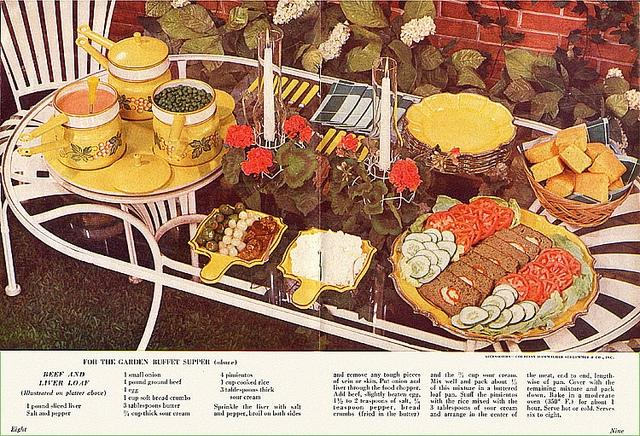cucumber: (459, 306, 489, 326), (489, 308, 514, 330), (407, 256, 431, 278), (402, 238, 426, 260), (418, 264, 442, 284), (481, 294, 506, 313), (506, 304, 526, 325), (480, 305, 501, 325), (451, 314, 476, 330), (414, 249, 439, 265), (494, 290, 516, 308), (432, 249, 450, 271), (436, 241, 456, 258), (519, 302, 536, 321), (404, 232, 432, 242), (520, 300, 540, 314), (422, 228, 442, 242), (422, 241, 439, 251), (442, 230, 456, 242)
lettuce: (548, 233, 594, 281), (536, 290, 564, 318), (558, 285, 580, 316)
pea: (181, 96, 186, 100)
tomato: (495, 274, 529, 304), (444, 222, 474, 252), (544, 262, 574, 292), (470, 208, 497, 239), (456, 214, 482, 246), (536, 278, 562, 308), (518, 274, 544, 303), (426, 210, 457, 233), (539, 247, 575, 266), (534, 250, 568, 270), (518, 262, 551, 280), (494, 206, 514, 231), (468, 198, 498, 214), (449, 204, 471, 218)
